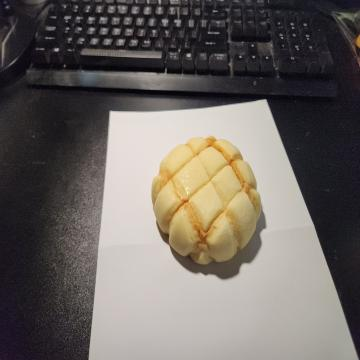melon_bread: (151, 136, 260, 262)
